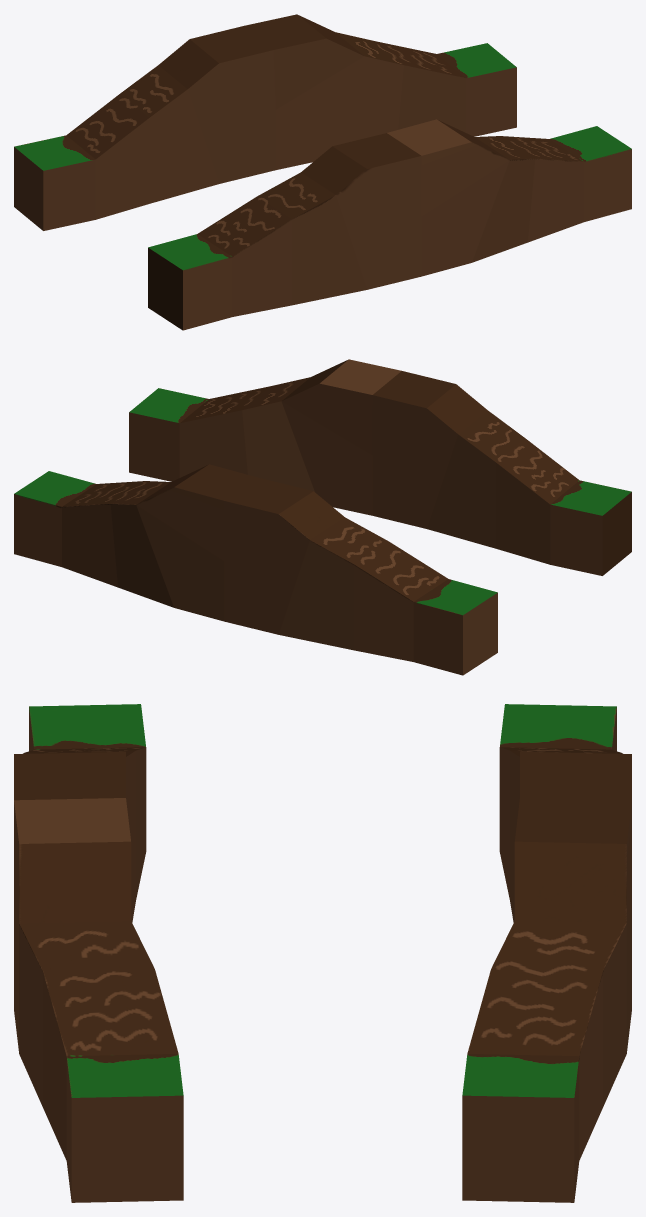
The model's file is BetweenPlatform.fbx.
3 renders of one model, top to bottom at view 1: azimuth 30°, elevation 25°; view 2: azimuth 150°, elevation 25°; view 3: azimuth 270°, elevation 25°, orthographic. The views are drawn at different scales.
Visible parts, largest first — view 1: Cube.005; view 2: Cube.005; view 3: Cube.005.
Boxes of the visible parts, x1,y1,x2,y2 form: Cube.005: (14,14,631,330); Cube.005: (14,359,631,675); Cube.005: (14,704,631,1202).
Bounding box in the file's own units: 1686 × 419 × 1118.
1 material, 1 textured.
